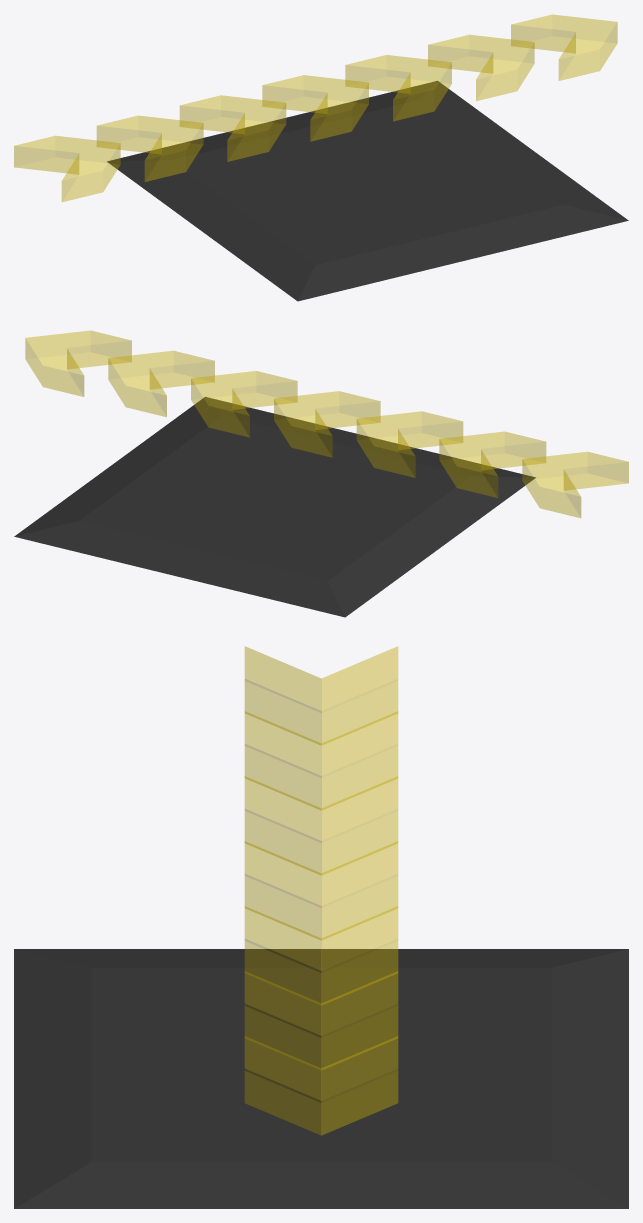
The model's file is boosterpad.glb.
3 renders of one model, top to bottom at view 1: azimuth 30°, elevation 25°; view 2: azimuth 150°, elevation 25°; view 3: azimuth 270°, elevation 25°, orthographic. The views are drawn at different scales.
Visible parts, largest first — view 1: Pad, Chevrons; view 2: Pad, Chevrons; view 3: Pad, Chevrons.
Boxes of the visible parts, x1,y1,x2,y2 form: Pad: [107, 81, 628, 301]; Chevrons: [14, 14, 617, 201]; Pad: [14, 397, 535, 617]; Chevrons: [25, 330, 628, 517]; Pad: [14, 949, 628, 1208]; Chevrons: [244, 646, 398, 1135].
Size of the model in its own units: 7 by 1.25 by 4.
